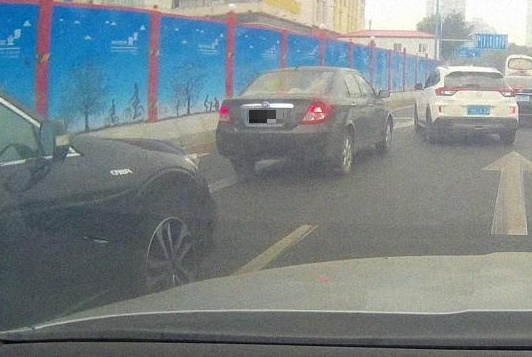L_light: (218, 106, 232, 122), (435, 87, 458, 96)
R_light: (300, 100, 332, 123), (498, 88, 516, 98)
T_light: (466, 87, 488, 91), (285, 71, 303, 75)
day-brake: (216, 68, 334, 175)
day-no: (435, 66, 519, 144)
plate_1: (249, 110, 283, 123)
